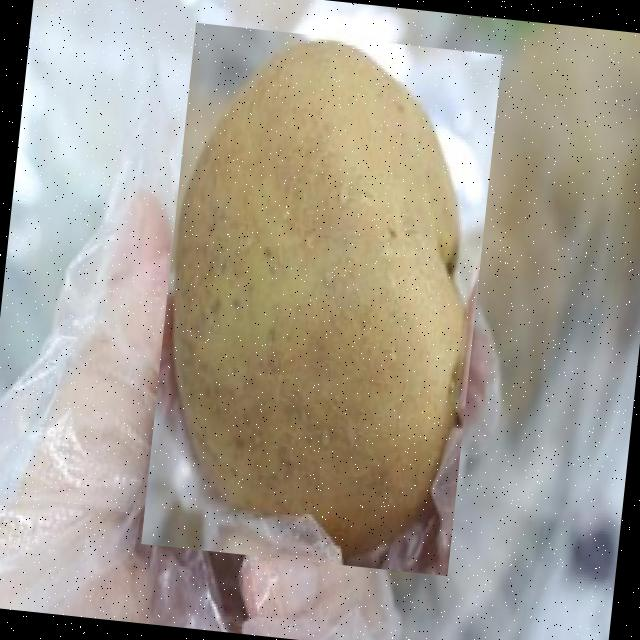Potato: (140, 22, 501, 574)
